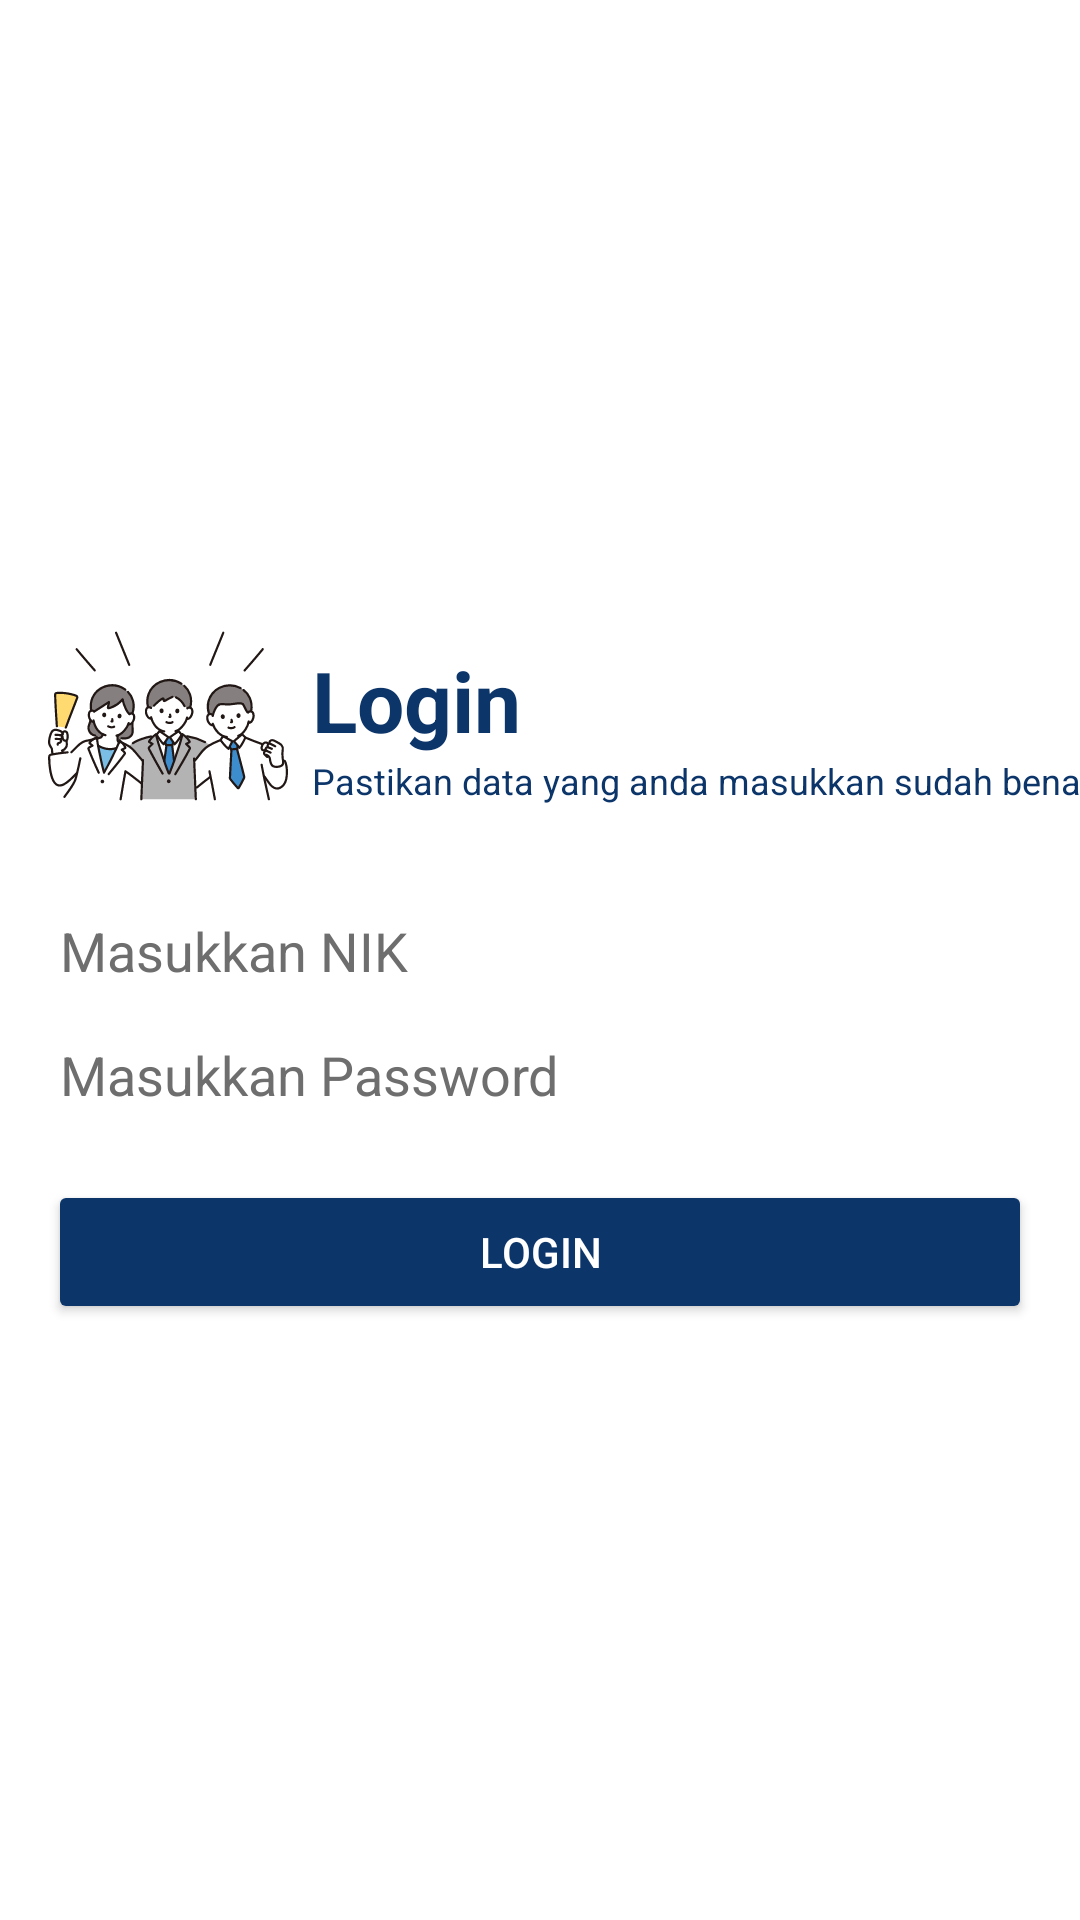

Icon click points for this 1080 × 1920 phone screenshot, format [x,y]:
supporting business person: [168,716]
